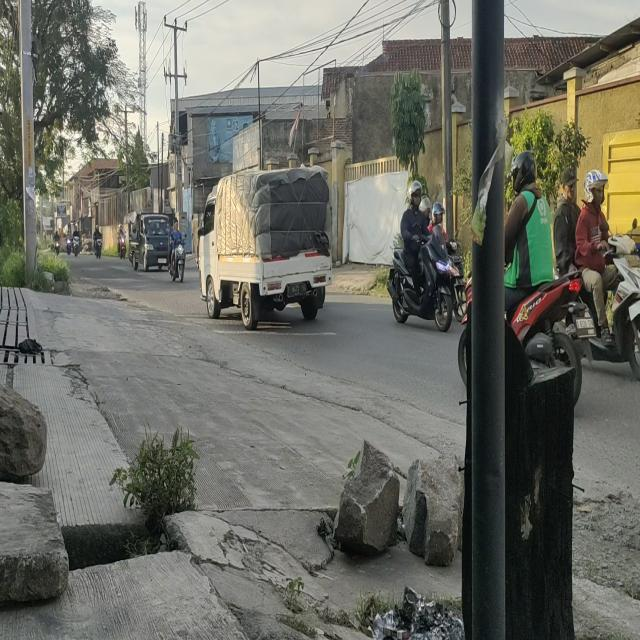helmet: (514, 146, 536, 187), (584, 170, 607, 208), (407, 180, 422, 206), (432, 202, 444, 225), (422, 196, 431, 218)
no-helmet: (561, 168, 577, 198)
